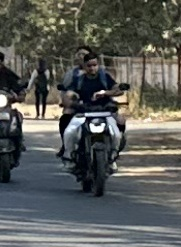BikeWithRider: (50, 42, 134, 200)
NoHelmet: (80, 51, 103, 77), (72, 43, 94, 68)
